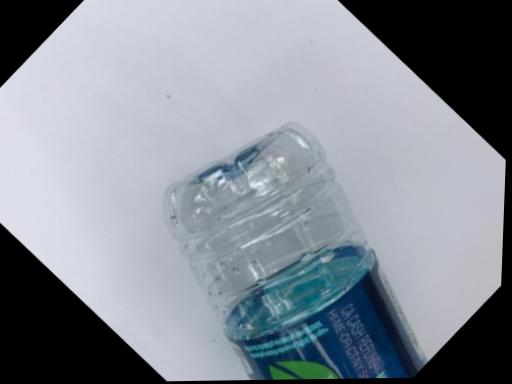plastic: (85, 73, 503, 378)
